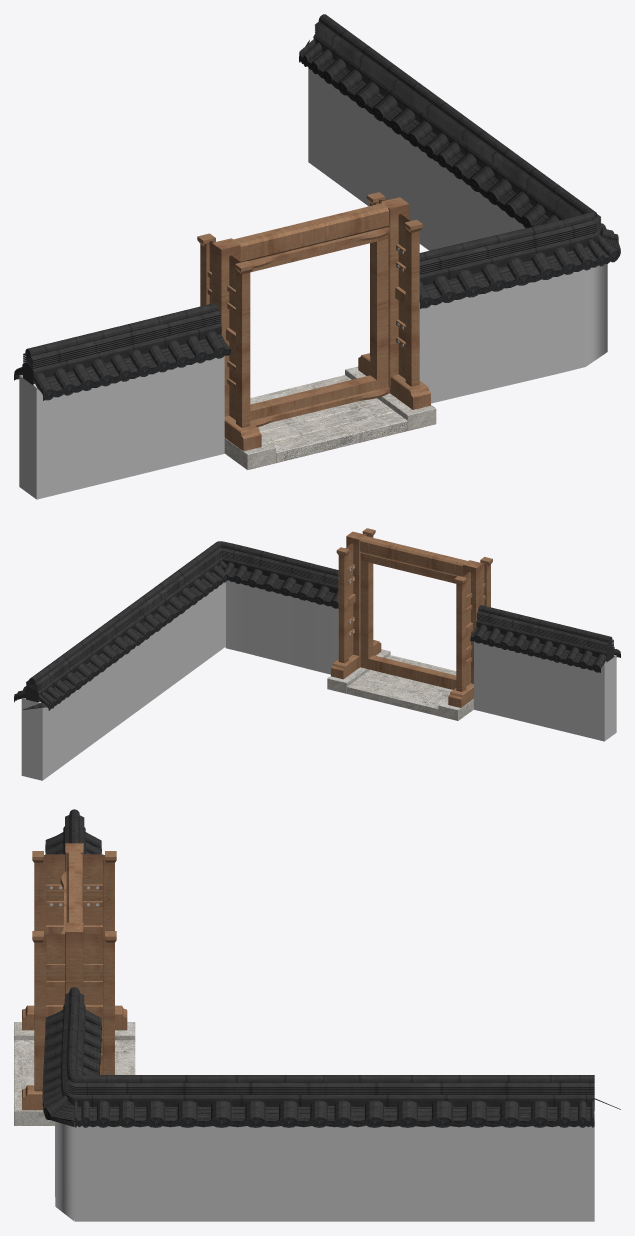
File: SM_JSH_HG_StoneWallH_Splines_13.fbx
3 views of the same model, one above another, from view 1: azimuth 30°, elevation 25°; view 2: azimuth 150°, elevation 25°; view 3: azimuth 270°, elevation 25° (orthographic). The views are drawn at different scales.
Visible parts, largest first — view 1: SM_JSH_HG_StoneWallH_Splines_13; view 2: SM_JSH_HG_StoneWallH_Splines_13; view 3: SM_JSH_HG_StoneWallH_Splines_13.
Boxes of the visible parts, left/top/right/bottom form: SM_JSH_HG_StoneWallH_Splines_13: left=14, top=14, right=620, bottom=499; SM_JSH_HG_StoneWallH_Splines_13: left=14, top=528, right=620, bottom=780; SM_JSH_HG_StoneWallH_Splines_13: left=14, top=809, right=620, bottom=1221.
Bounding box in the file's own units: 764 × 704 × 248.
